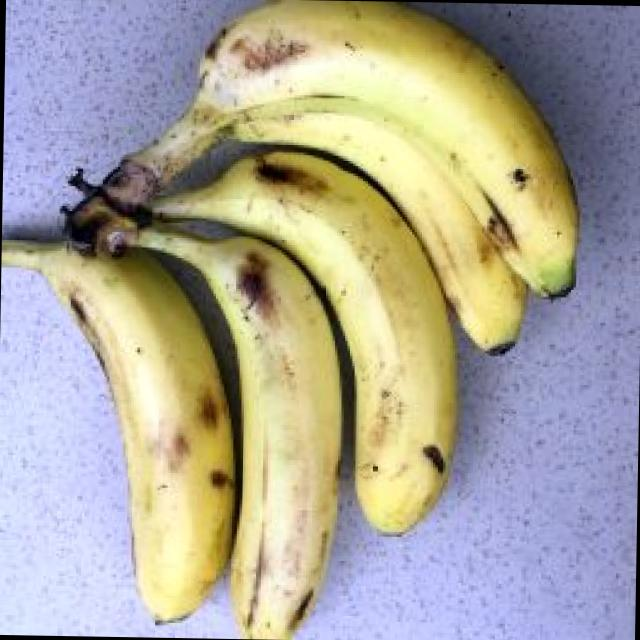banana: (87, 71, 601, 476)
